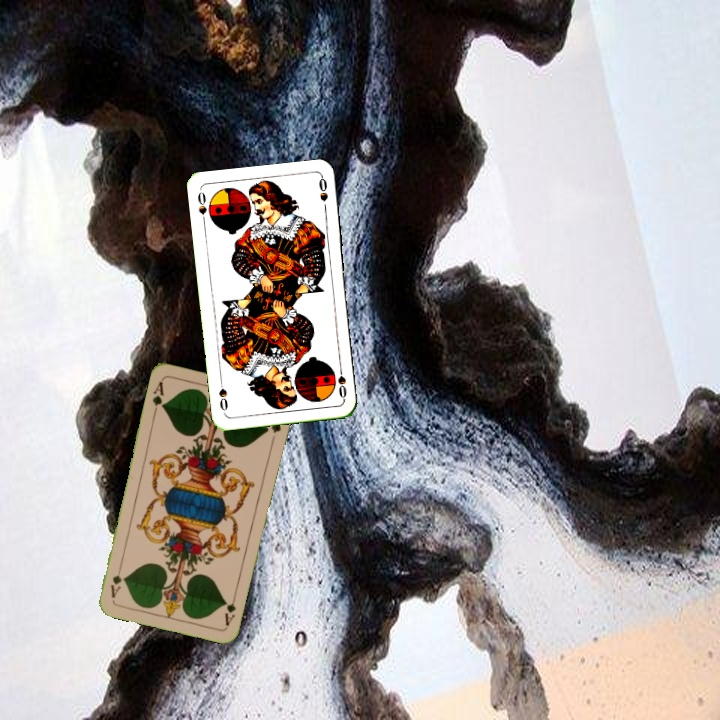GA: (148, 377, 167, 417), (221, 588, 239, 629)
SO: (193, 188, 209, 227), (334, 361, 349, 402)
